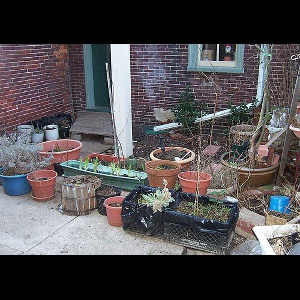flowerpot: (221, 151, 282, 207), (34, 139, 82, 181), (151, 145, 194, 190), (60, 176, 101, 218), (143, 160, 179, 196), (1, 164, 34, 196), (178, 172, 212, 201), (26, 170, 57, 201), (229, 123, 260, 151), (104, 197, 131, 227), (95, 186, 121, 216)
